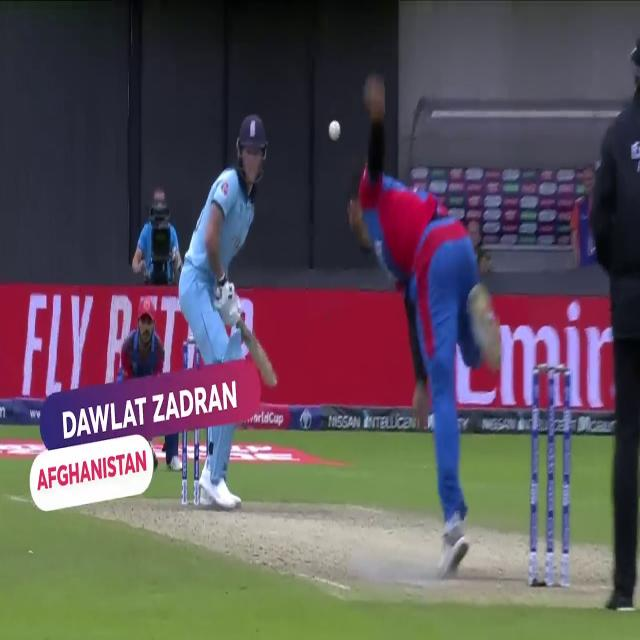ball: (327, 114, 345, 149)
